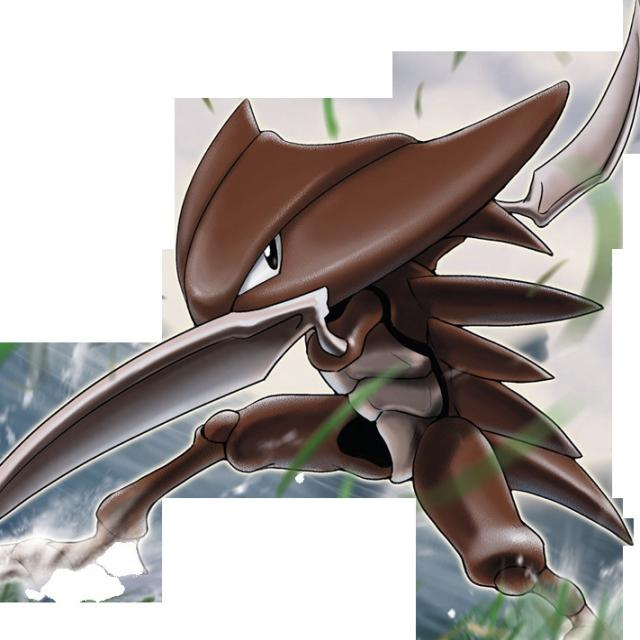Kabutops: (174, 101, 590, 538)
